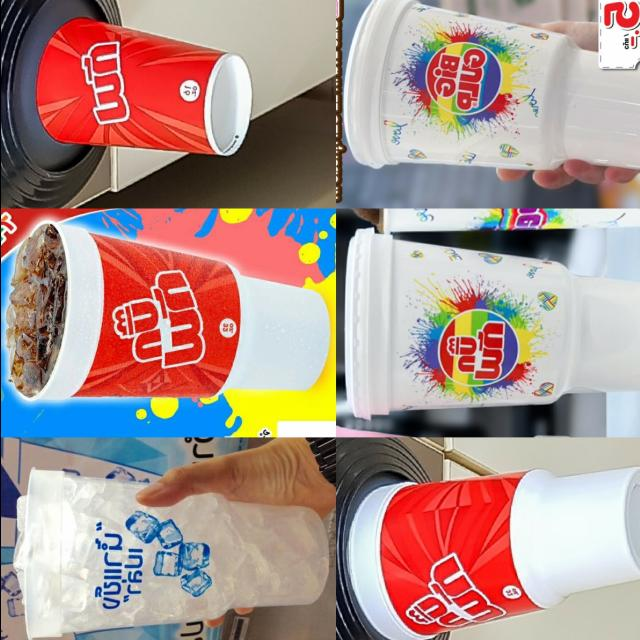plastik: (5, 222, 329, 401), (345, 229, 640, 418), (14, 469, 327, 638), (347, 466, 640, 640), (343, 0, 640, 169), (36, 17, 250, 154)
